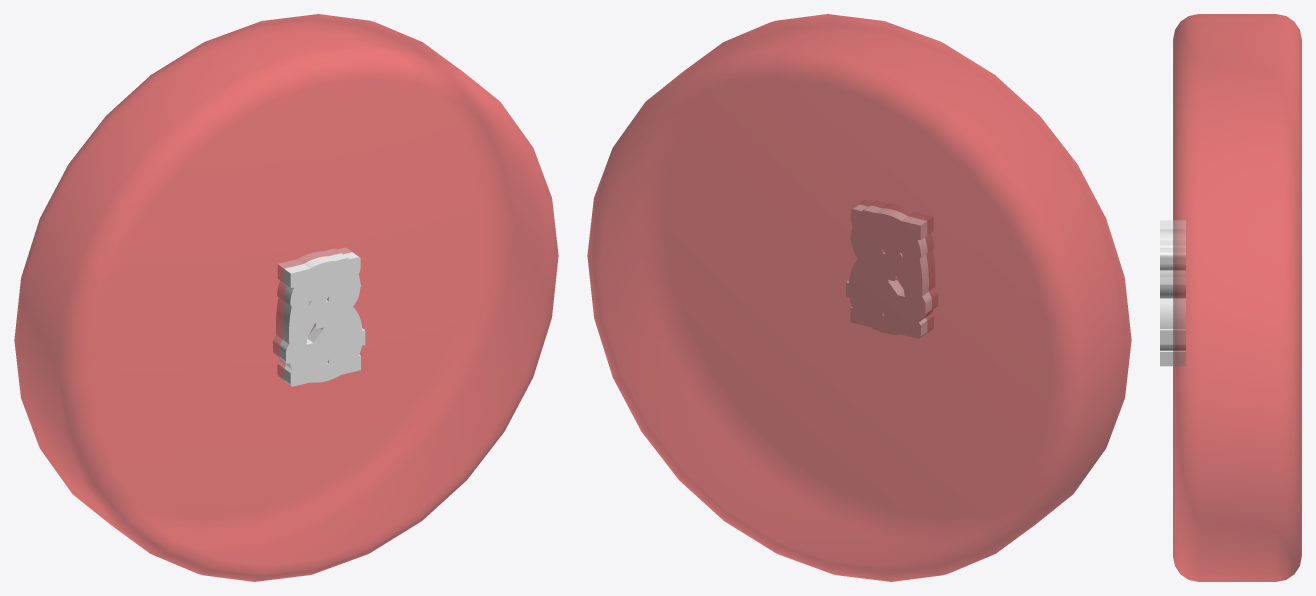
The model's file is #04_Obj_Number.FBX.
3 renders of one model, left to right at view 1: azimuth 30°, elevation 25°; view 2: azimuth 150°, elevation 25°; view 3: azimuth 270°, elevation 25°, orthographic.
Visible parts, largest first — view 1: #04_Obj_Number_Circle, #04_Obj_Number06, #04_Obj_Number03, #04_Obj_Number05, #04_Obj_Number02, #04_Obj_Number01, #04_Obj_Number04, #04_Obj_Number07; view 2: #04_Obj_Number_Circle, #04_Obj_Number04, #04_Obj_Number07, #04_Obj_Number03, #04_Obj_Number06, #04_Obj_Number02, #04_Obj_Number05, #04_Obj_Number01; view 3: #04_Obj_Number_Circle, #04_Obj_Number03, #04_Obj_Number06, #04_Obj_Number07, #04_Obj_Number04, #04_Obj_Number02.
Boxes of the visible parts, x1,y1,x2,y2 form: #04_Obj_Number_Circle: [14, 14, 558, 581]; #04_Obj_Number06: [276, 261, 362, 381]; #04_Obj_Number03: [277, 251, 362, 382]; #04_Obj_Number05: [285, 258, 361, 382]; #04_Obj_Number02: [277, 261, 360, 386]; #04_Obj_Number01: [309, 261, 345, 377]; #04_Obj_Number04: [273, 248, 365, 363]; #04_Obj_Number07: [277, 247, 360, 383]; #04_Obj_Number_Circle: [587, 14, 1131, 581]; #04_Obj_Number04: [846, 201, 937, 328]; #04_Obj_Number07: [850, 200, 933, 335]; #04_Obj_Number03: [848, 204, 933, 334]; #04_Obj_Number06: [849, 213, 934, 333]; #04_Obj_Number02: [850, 213, 933, 338]; #04_Obj_Number05: [850, 212, 925, 334]; #04_Obj_Number01: [866, 213, 902, 328]; #04_Obj_Number_Circle: [1173, 14, 1301, 581]; #04_Obj_Number03: [1160, 229, 1185, 350]; #04_Obj_Number06: [1160, 277, 1185, 328]; #04_Obj_Number07: [1160, 220, 1185, 270]; #04_Obj_Number04: [1160, 240, 1185, 344]; #04_Obj_Number02: [1160, 297, 1185, 366].
Bounding box in the file's own units: 440 × 110 × 440.
